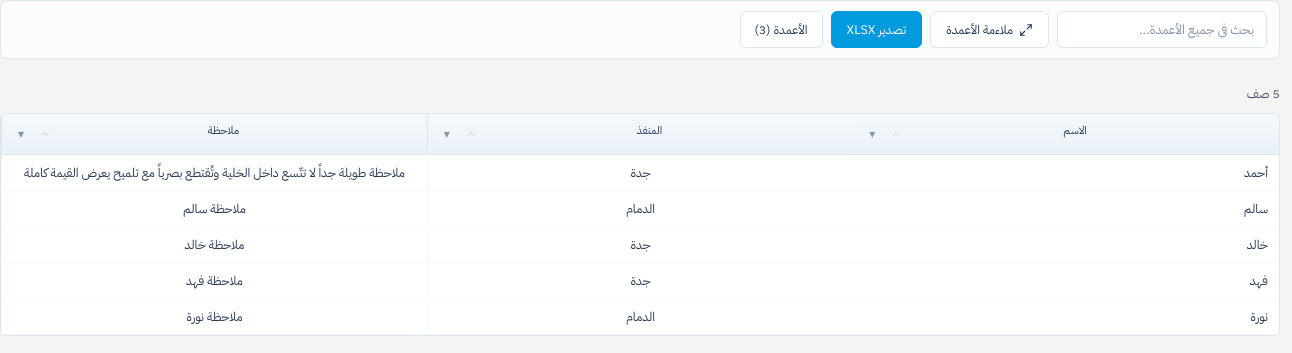
Test: DataTable — RTL render + interactions (characterization) › global search filters rows down to matches (debounced)
Type "سالم" into the field with placeholder "بحث في جميع الأعمدة..." at (1162, 30), box [1057,11,1267,48]
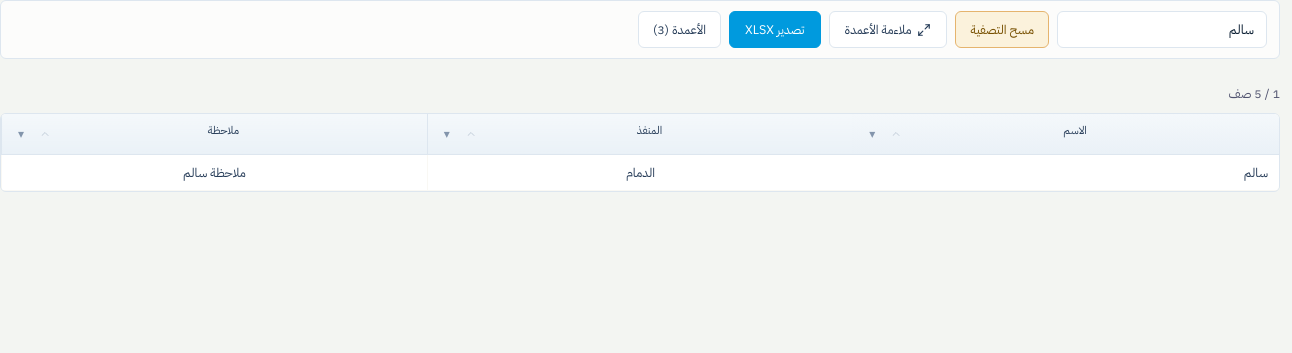
Expected: the text "سالم" is shown, [1244,163,1268,182]
Now the text "أحمد" is gone
Now the text "خالد" is gone
